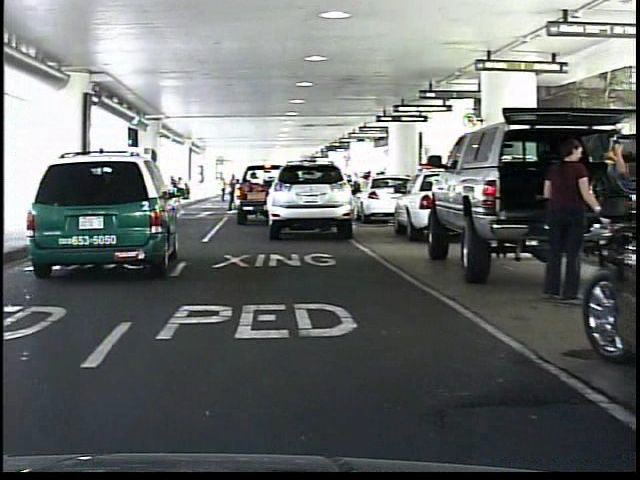person: (528, 136, 595, 308)
